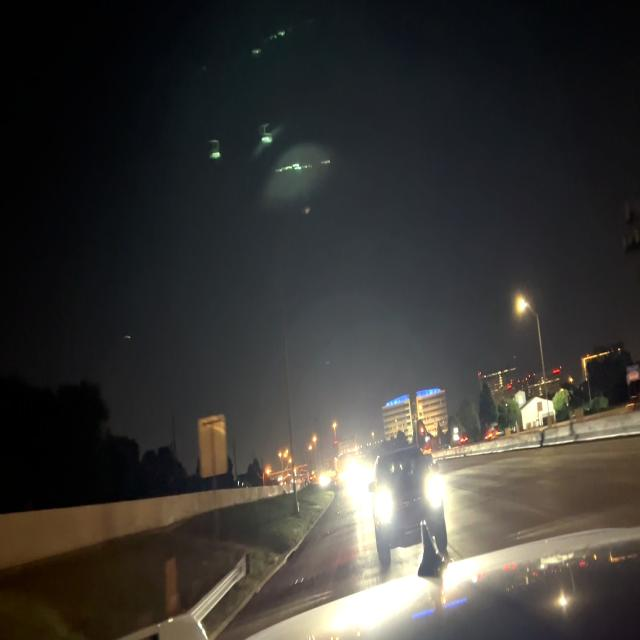back-of-sign: (199, 414, 227, 476)
